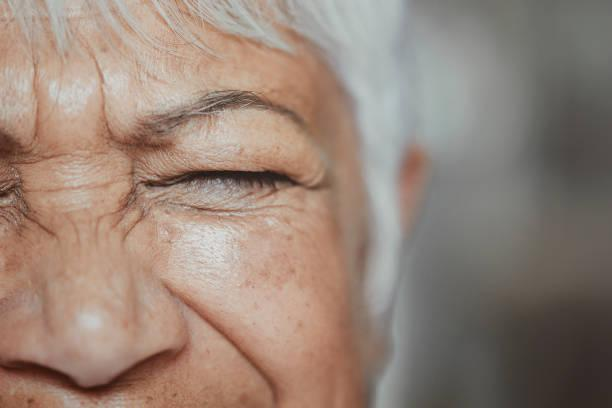Dry-Skin: (5, 74, 156, 348), (193, 199, 343, 380), (0, 74, 10, 76)
